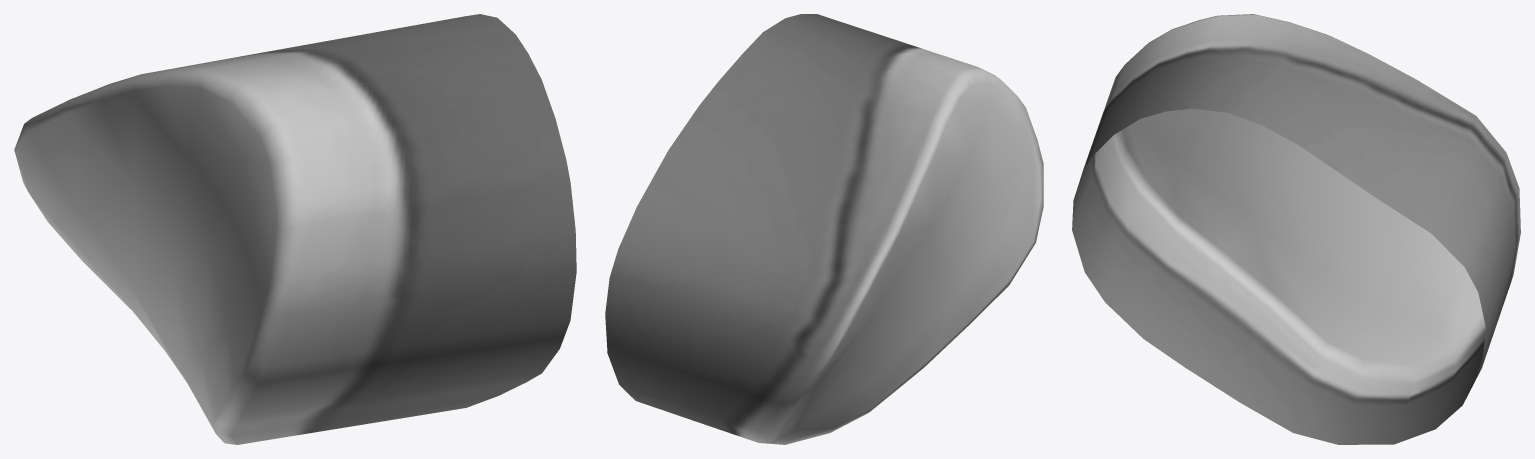
3 views of the same model, side by side, from view 1: azimuth 30°, elevation 25°; view 2: azimuth 150°, elevation 25°; view 3: azimuth 270°, elevation 25° (orthographic). The views are drawn at different scales.
Bounding box in the file's own units: 0.016 × 0.0189 × 0.0234.
1 material, 1 textured.
